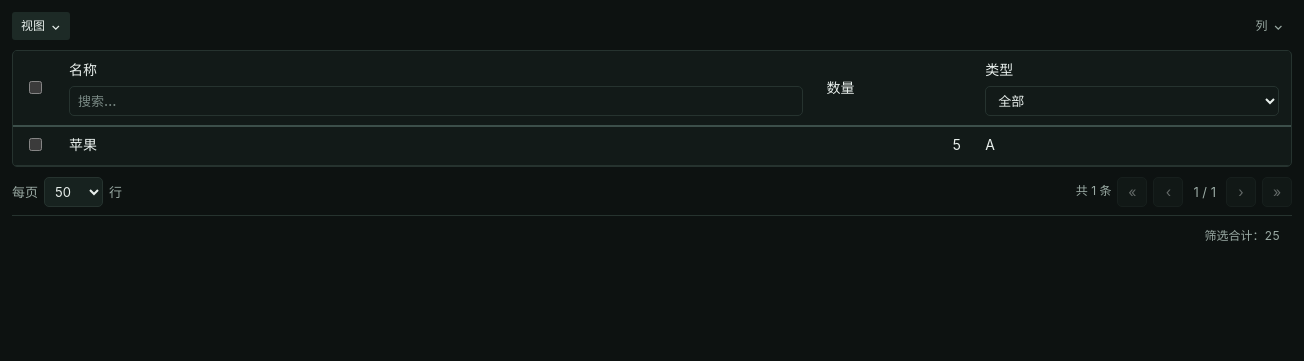
Scenario: DataTable failed filter requests › does not present the previous query rows and summary as the failed query result
This screenshot has width=1304, height=361.
expect the text "苹果" is shown: met, box [57,126,814,166]
expect the text "筛选合计：25" is shown: met, box [12,215,1292,256]
Type "香蕉" into the field named "搜索名称" at coordinates (436, 101), box [69,86,802,116]
Wait 210 ms
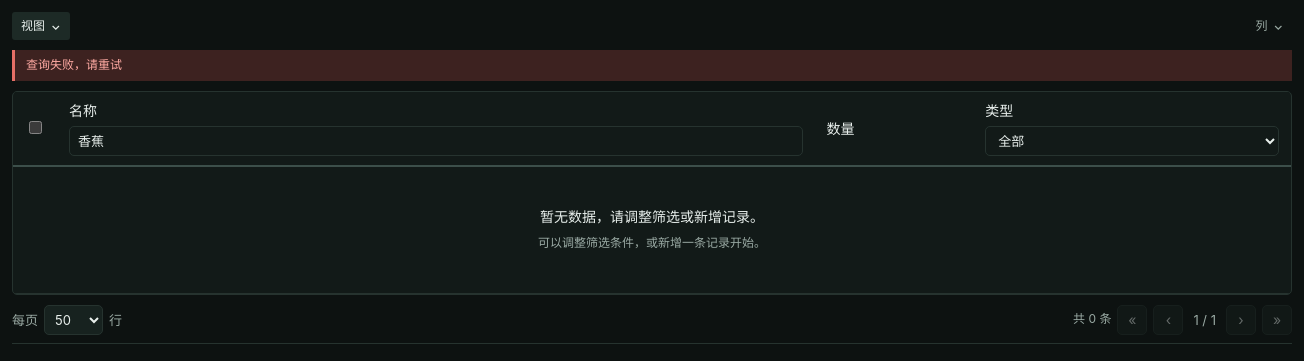
expect the text "查询失败，请重试" is shown: met, box [12,50,1292,81]
expect the text "苹果" is gone: met
expect the text "筛选合计：25" is gone: met
